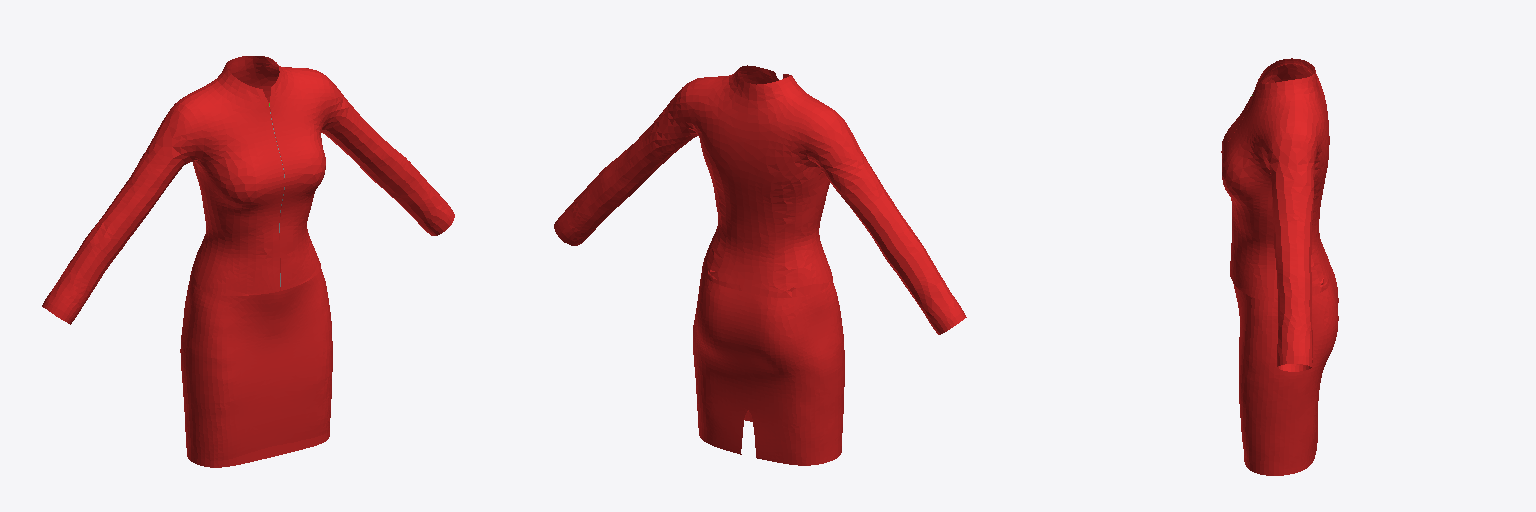
The picture shows the model from 3 angles: view 1: azimuth 30°, elevation 25°; view 2: azimuth 150°, elevation 25°; view 3: azimuth 270°, elevation 25°; orthographic projection.
Visible parts, largest first — view 1: Jacket_, Skirt; view 2: Jacket_, Skirt; view 3: Jacket_, Skirt.
Part boxes in pixels (left/top/right/bottom): Jacket_: left=42, top=56, right=454, bottom=324; Skirt: left=180, top=269, right=332, bottom=467; Jacket_: left=554, top=65, right=966, bottom=334; Skirt: left=693, top=271, right=844, bottom=465; Jacket_: left=1221, top=58, right=1330, bottom=371; Skirt: left=1233, top=267, right=1338, bottom=475.
Size of the model in its own units: 38.09 by 33.52 by 9.5.